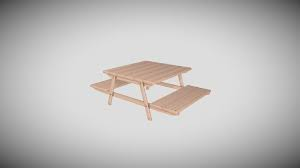obstacle: (89, 58, 212, 125)
